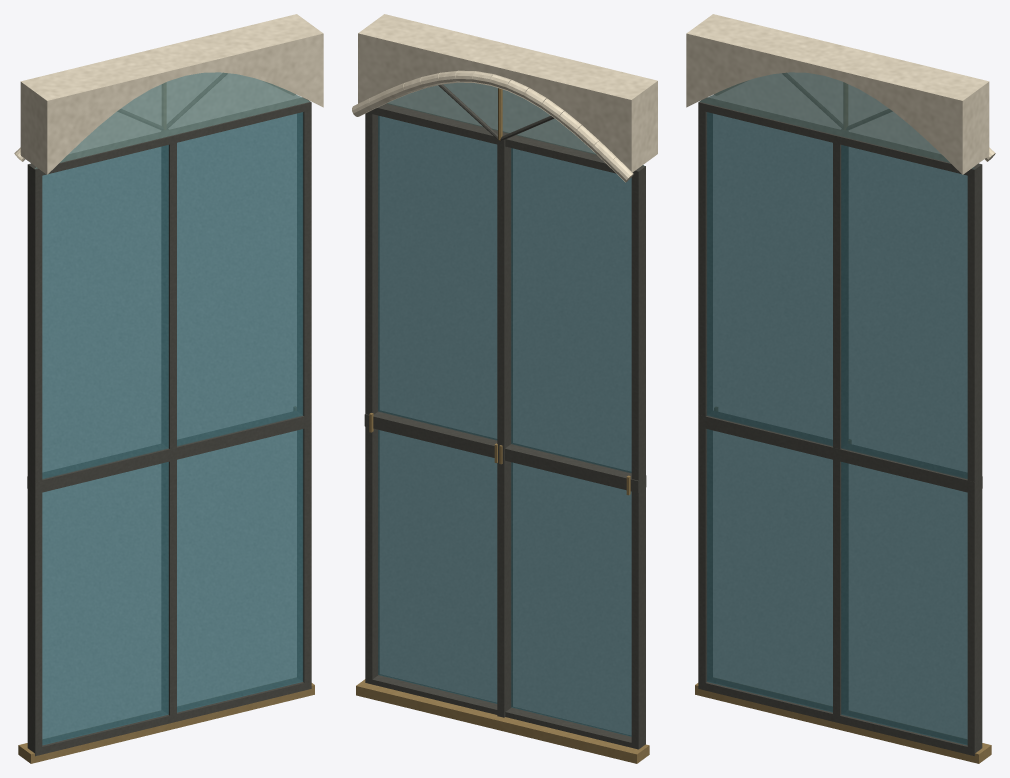
File: station_glazing.glb
3 views of the same model, side by side, from view 1: azimuth 30°, elevation 25°; view 2: azimuth 150°, elevation 25°; view 3: azimuth 330°, elevation 25° (orthographic).
Parts seen in each view (by area): view 1: VIS_GLASS_REUSABLE, VIS_STONE_ARCH_SPANDREL_REUSABLE, VIS_GLASS_ARCH_REUSABLE, VIS_FRAME_REUSABLE_LEFT, VIS_FRAME_REUSABLE_RIGHT, VIS_MULLION_REUSABLE, VIS_TRANSOM_REUSABLE, VIS_FRAME_REUSABLE_BOTTOM, VIS_FRAME_REUSABLE_TOP, VIS_BRONZE_DETAIL_REUSABLE; view 2: VIS_GLASS_REUSABLE, VIS_STONE_ARCH_SPANDREL_REUSABLE, VIS_FRAME_REUSABLE_LEFT, VIS_MULLION_REUSABLE, VIS_FRAME_REUSABLE_RIGHT, VIS_GLASS_ARCH_REUSABLE, VIS_TRANSOM_REUSABLE, VIS_BRONZE_DETAIL_REUSABLE, VIS_ARCH_MOLDING_REUSABLE, VIS_FRAME_REUSABLE_TOP, VIS_FRAME_REUSABLE_BOTTOM, VIS_FAN_MULLION_REUSABLE; view 3: VIS_GLASS_REUSABLE, VIS_STONE_ARCH_SPANDREL_REUSABLE, VIS_GLASS_ARCH_REUSABLE, VIS_FRAME_REUSABLE_RIGHT, VIS_FRAME_REUSABLE_LEFT, VIS_MULLION_REUSABLE, VIS_TRANSOM_REUSABLE, VIS_FRAME_REUSABLE_BOTTOM, VIS_FRAME_REUSABLE_TOP, VIS_BRONZE_DETAIL_REUSABLE.
Boxes of the visible parts, x1,y1,x2,y2 form: VIS_GLASS_REUSABLE: (42,112,303,745); VIS_STONE_ARCH_SPANDREL_REUSABLE: (20,14,323,174); VIS_GLASS_ARCH_REUSABLE: (35,72,310,168); VIS_FRAME_REUSABLE_LEFT: (27,163,42,755); VIS_FRAME_REUSABLE_RIGHT: (302,98,311,688); VIS_MULLION_REUSABLE: (168,136,176,721); VIS_TRANSOM_REUSABLE: (27,415,311,494); VIS_FRAME_REUSABLE_BOTTOM: (27,681,311,755); VIS_FRAME_REUSABLE_TOP: (28,97,311,176); VIS_BRONZE_DETAIL_REUSABLE: (18,683,314,763); VIS_GLASS_REUSABLE: (378,115,631,736); VIS_STONE_ARCH_SPANDREL_REUSABLE: (358,14,657,172); VIS_FRAME_REUSABLE_LEFT: (631,166,645,749); VIS_MULLION_REUSABLE: (497,132,511,717); VIS_FRAME_REUSABLE_RIGHT: (365,110,378,684); VIS_GLASS_ARCH_REUSABLE: (386,82,644,166); VIS_TRANSOM_REUSABLE: (364,411,646,492); VIS_BRONZE_DETAIL_REUSABLE: (356,679,649,763); VIS_ARCH_MOLDING_REUSABLE: (352,70,633,182); VIS_FRAME_REUSABLE_TOP: (367,103,645,178); VIS_FRAME_REUSABLE_BOTTOM: (365,675,645,749); VIS_FAN_MULLION_REUSABLE: (438,84,554,141); VIS_GLASS_REUSABLE: (706,112,967,745); VIS_STONE_ARCH_SPANDREL_REUSABLE: (686,14,989,174); VIS_GLASS_ARCH_REUSABLE: (699,72,974,168); VIS_FRAME_REUSABLE_RIGHT: (967,163,982,755); VIS_FRAME_REUSABLE_LEFT: (698,97,707,688); VIS_MULLION_REUSABLE: (833,134,841,722); VIS_TRANSOM_REUSABLE: (698,415,982,494); VIS_FRAME_REUSABLE_BOTTOM: (698,681,982,756); VIS_FRAME_REUSABLE_TOP: (698,103,982,176); VIS_BRONZE_DETAIL_REUSABLE: (695,683,991,763).
Size of the model in its own units: 2.95 by 6.66 by 0.57.
5 materials, 5 textured.
